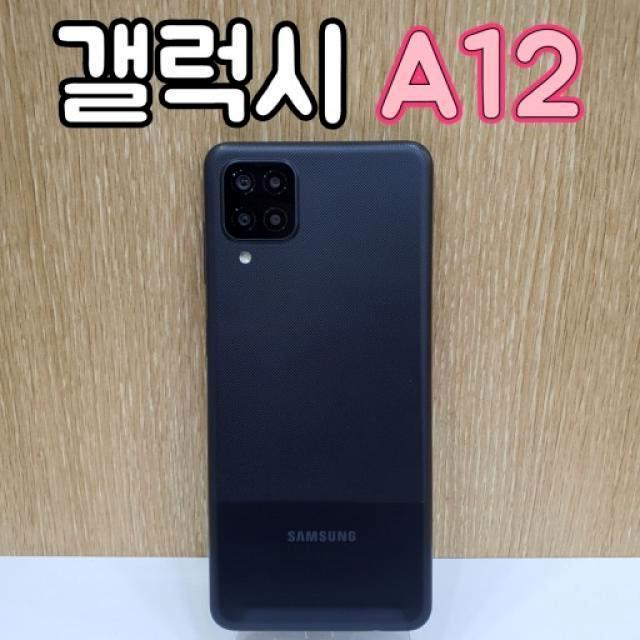lens_back: (228, 167, 259, 198), (260, 167, 290, 198), (262, 204, 291, 233), (230, 204, 258, 233)
phone: (198, 138, 440, 634)
